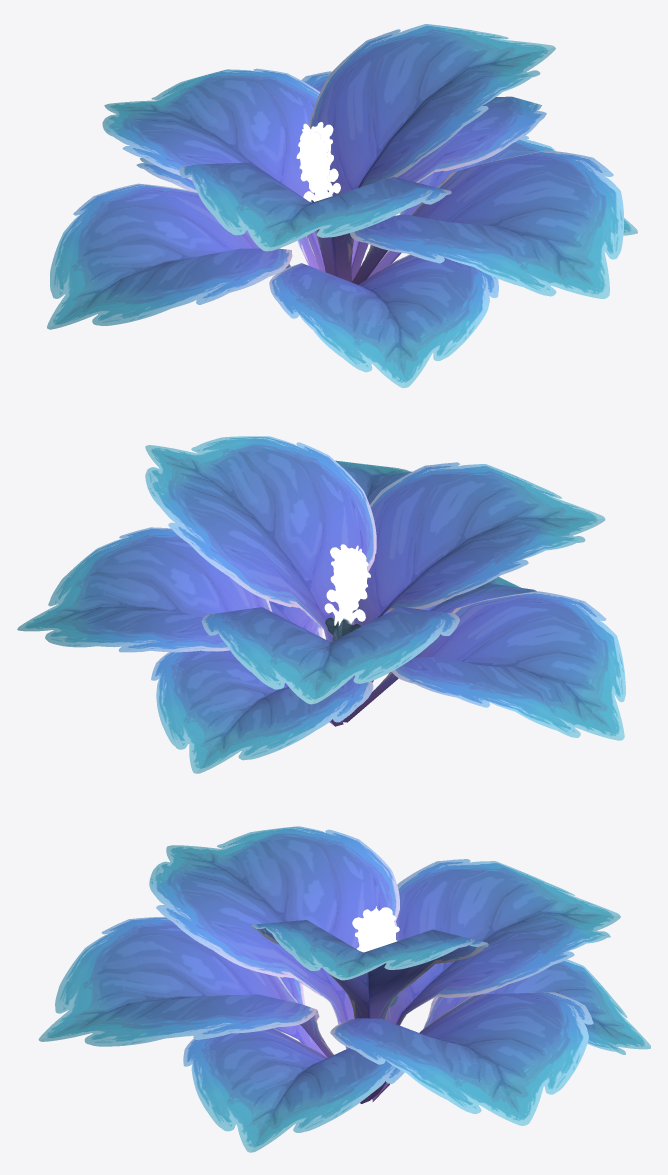
The model's file is SM_ENV_plant_ancient_04_02.fbx.
The picture shows the model from 3 angles, top to bottom: view 1: azimuth 30°, elevation 25°; view 2: azimuth 150°, elevation 25°; view 3: azimuth 270°, elevation 25°; orthographic projection.
Visible parts, largest first — view 1: SM_ENV_plant_ancient_04_02_LOD0; view 2: SM_ENV_plant_ancient_04_02_LOD0; view 3: SM_ENV_plant_ancient_04_02_LOD0.
Part boxes in pixels (left/top/right/bottom): SM_ENV_plant_ancient_04_02_LOD0: left=47, top=24, right=637, bottom=388; SM_ENV_plant_ancient_04_02_LOD0: left=17, top=436, right=625, bottom=773; SM_ENV_plant_ancient_04_02_LOD0: left=38, top=826, right=650, bottom=1152.
Bounding box in the file's own units: 92.69 × 36.05 × 92.06.
